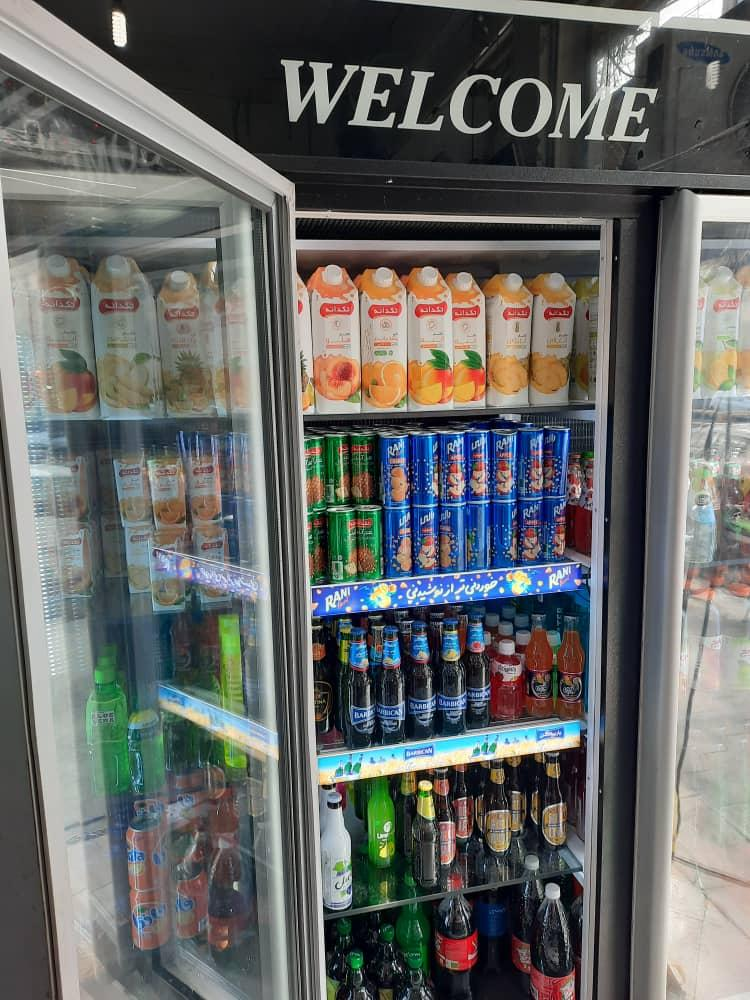Apple: (517, 500, 553, 564), (468, 432, 497, 505), (438, 435, 468, 505), (523, 433, 548, 495)
Peach: (379, 507, 419, 574), (377, 433, 414, 504)
